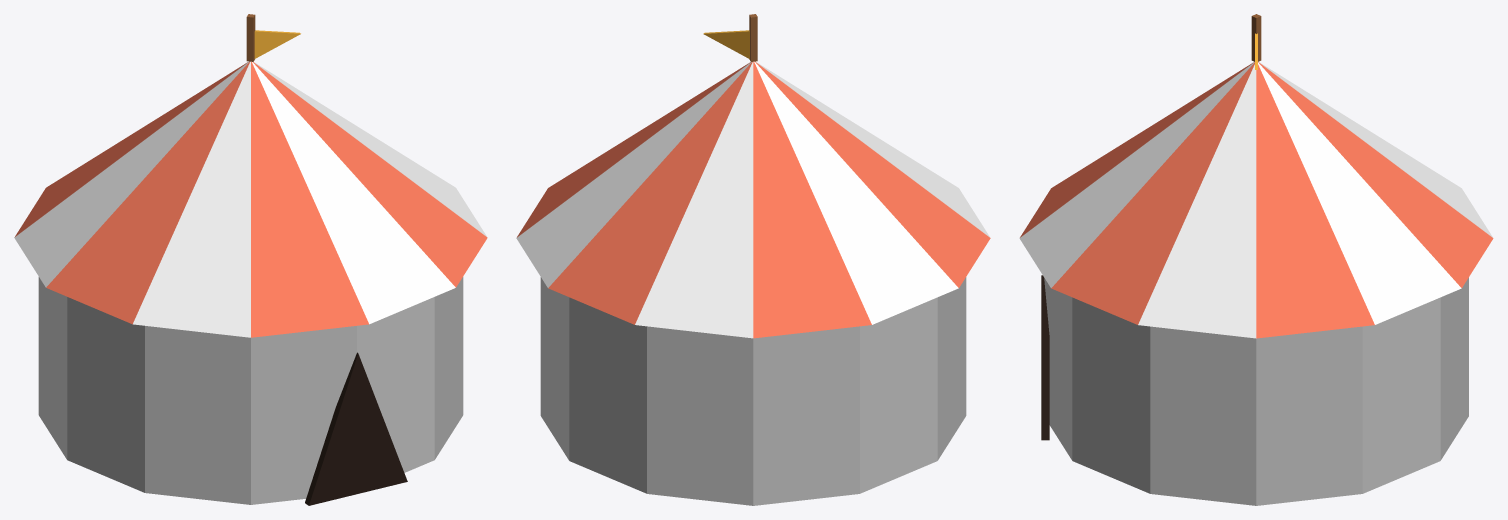
Rendered from prop_fair_tent.glb.
3 renders of one model, left to right at view 1: azimuth 30°, elevation 25°; view 2: azimuth 150°, elevation 25°; view 3: azimuth 270°, elevation 25°, orthographic.
Visible parts, largest first — view 1: prop_fair_tent; view 2: prop_fair_tent; view 3: prop_fair_tent.
Part boxes in pixels (bbox=[...]): prop_fair_tent: bbox=[14, 14, 487, 505]; prop_fair_tent: bbox=[516, 14, 990, 505]; prop_fair_tent: bbox=[1019, 14, 1493, 505].
Bounding box in the file's own units: 2.9 × 2.7 × 2.9.
